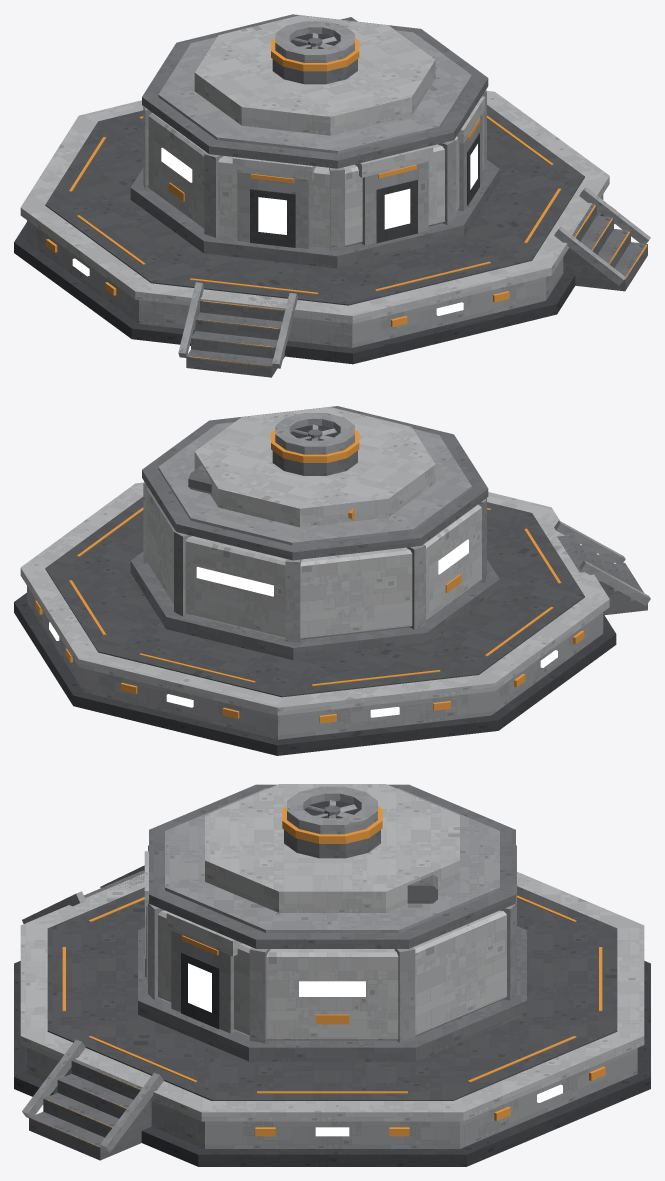
The model's file is habitat_lod0.glb.
3 renders of one model, top to bottom at view 1: azimuth 30°, elevation 25°; view 2: azimuth 150°, elevation 25°; view 3: azimuth 270°, elevation 25°, orthographic. The views are drawn at different scales.
Parts seen in each view (by area): view 1: habitat_base_body, habitat_base_trim, habitat_base_glow; view 2: habitat_base_body, habitat_base_trim, habitat_base_glow; view 3: habitat_base_body, habitat_base_trim, habitat_base_glow.
Boxes of the visible parts, x1=… form: habitat_base_body: x1=14, y1=14, x2=650, y2=377; habitat_base_trim: x1=46, y1=38, x2=647, y2=366; habitat_base_glow: x1=72, y1=144, x2=477, y2=315; habitat_base_body: x1=14, y1=406, x2=650, y2=755; habitat_base_trim: x1=35, y1=430, x2=635, y2=723; habitat_base_glow: x1=49, y1=539, x2=557, y2=717; habitat_base_body: x1=14, y1=784, x2=650, y2=1166; habitat_base_trim: x1=31, y1=806, x2=605, y2=1146; habitat_base_glow: x1=145, y1=906, x2=562, y2=1136.
Size of the model in its own units: 3.8 by 1.49 by 3.8.
3 materials, 1 textured.
